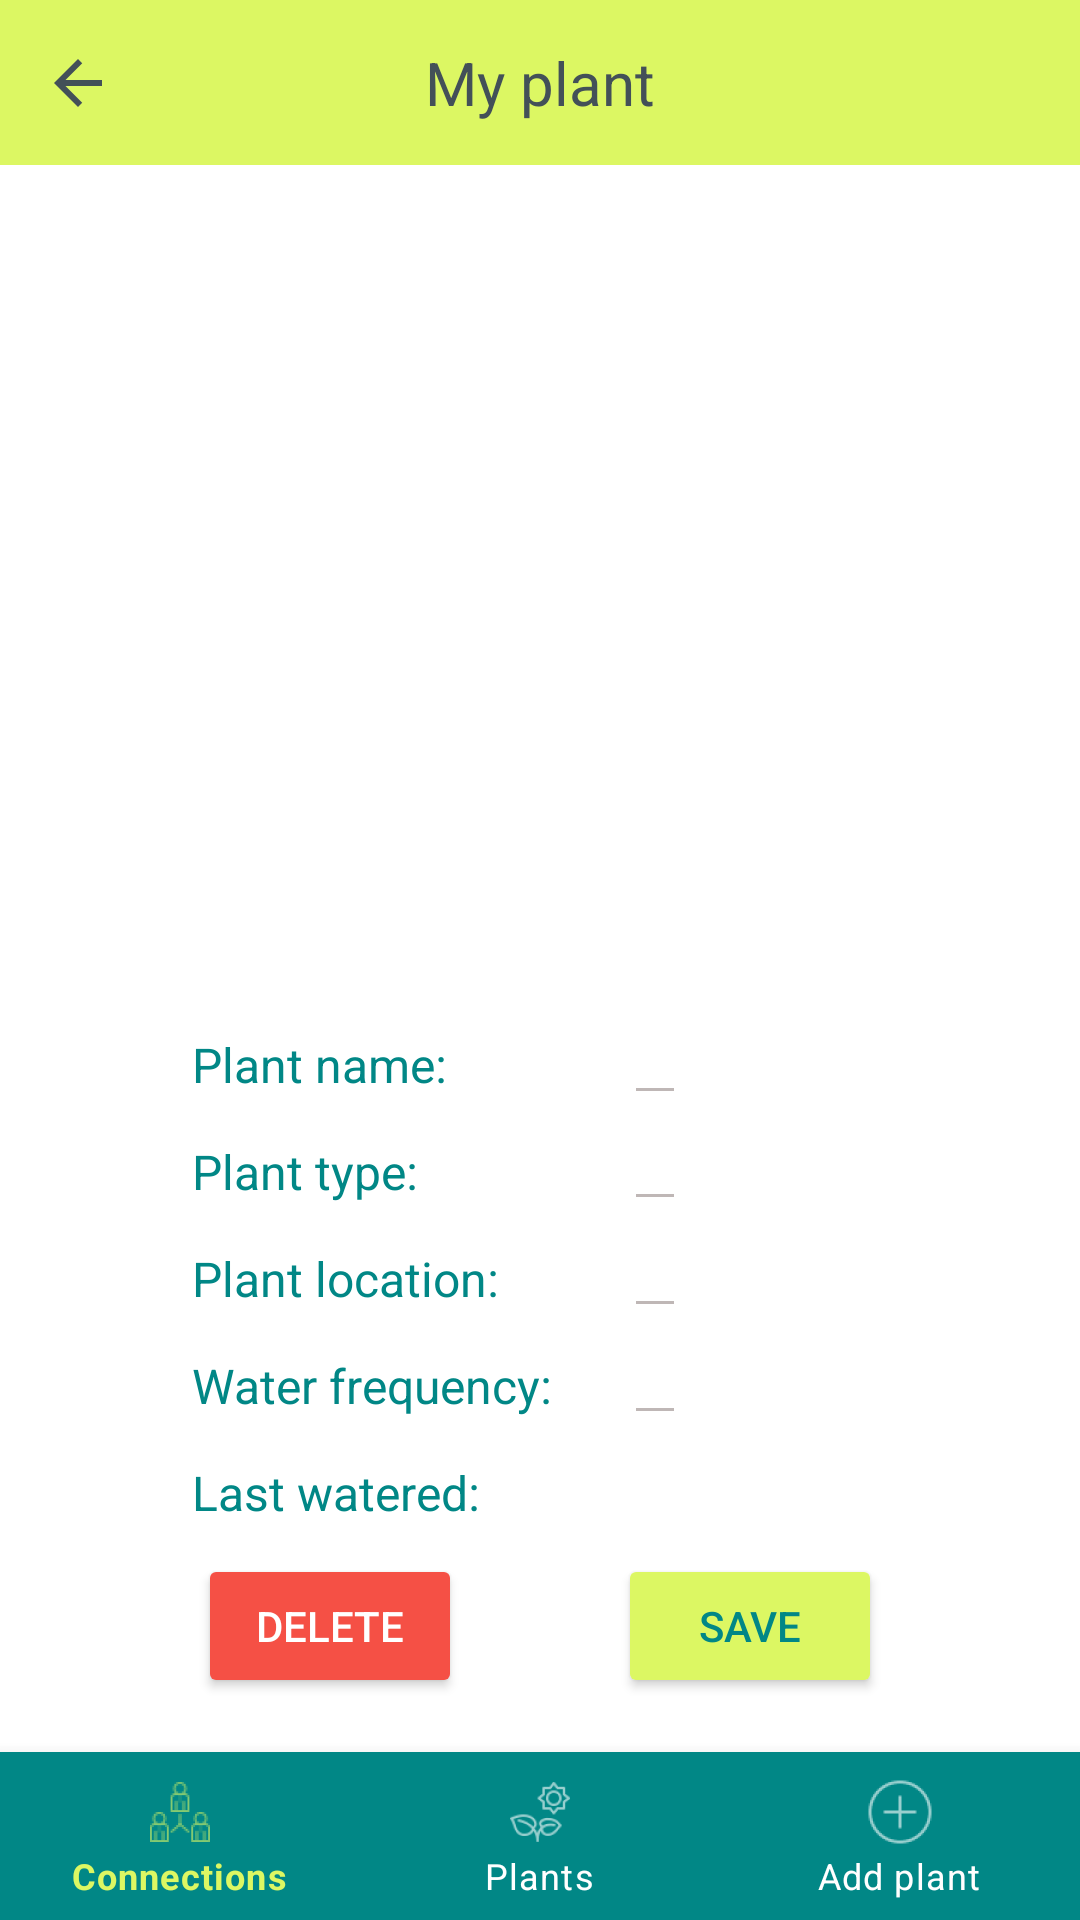

Icon click points for this 1080w x 1920h phone screenshot, format (x,y):
backarrow: (78,83)
